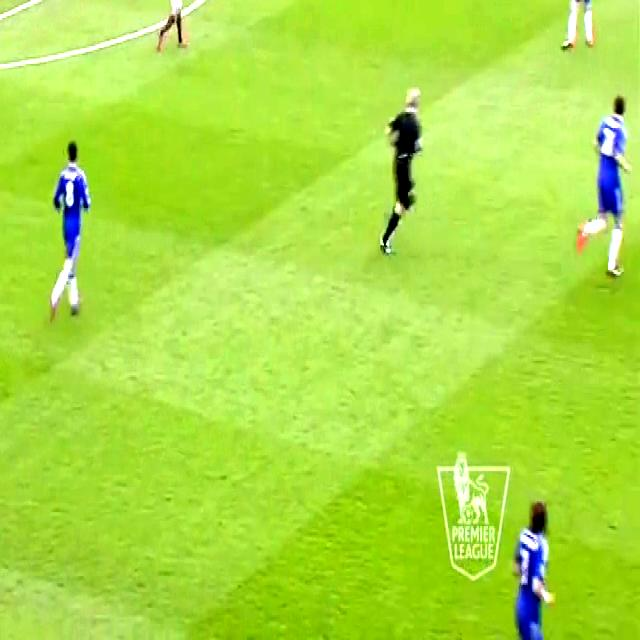referee: (375, 70, 427, 262)
soccer-player: (575, 83, 634, 281), (44, 125, 99, 331), (499, 486, 561, 640), (560, 0, 605, 57), (148, 0, 191, 59)
